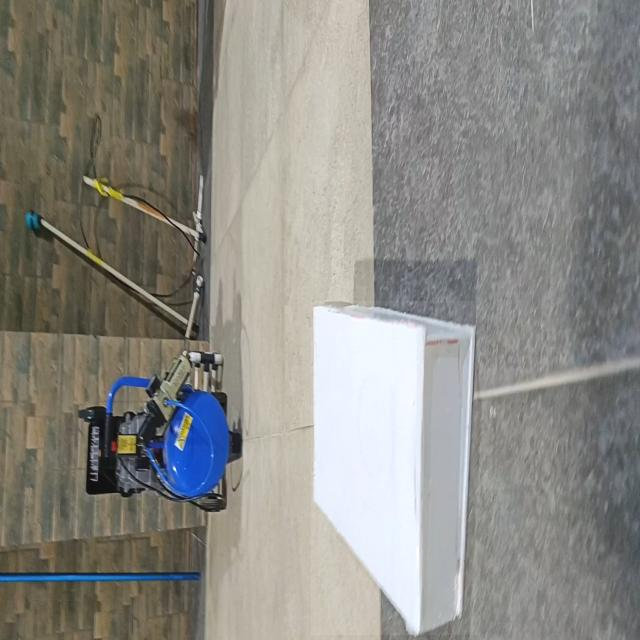Cuboid: (311, 301, 477, 635)
